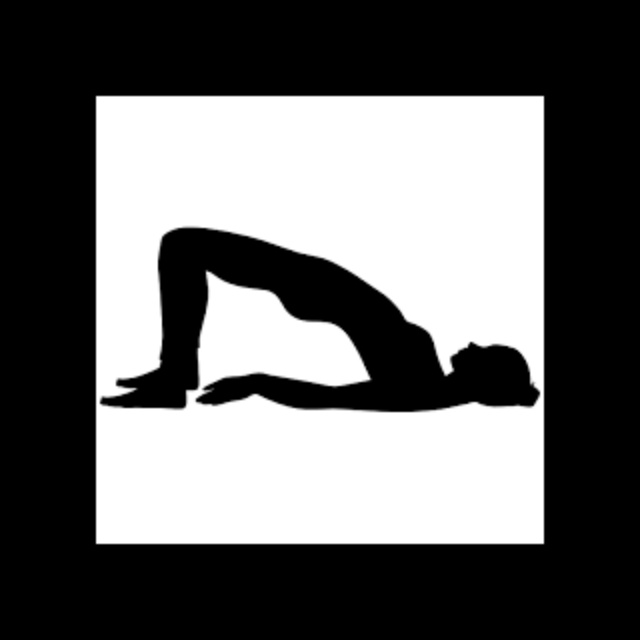Bridge_Pose: (97, 224, 542, 415)
